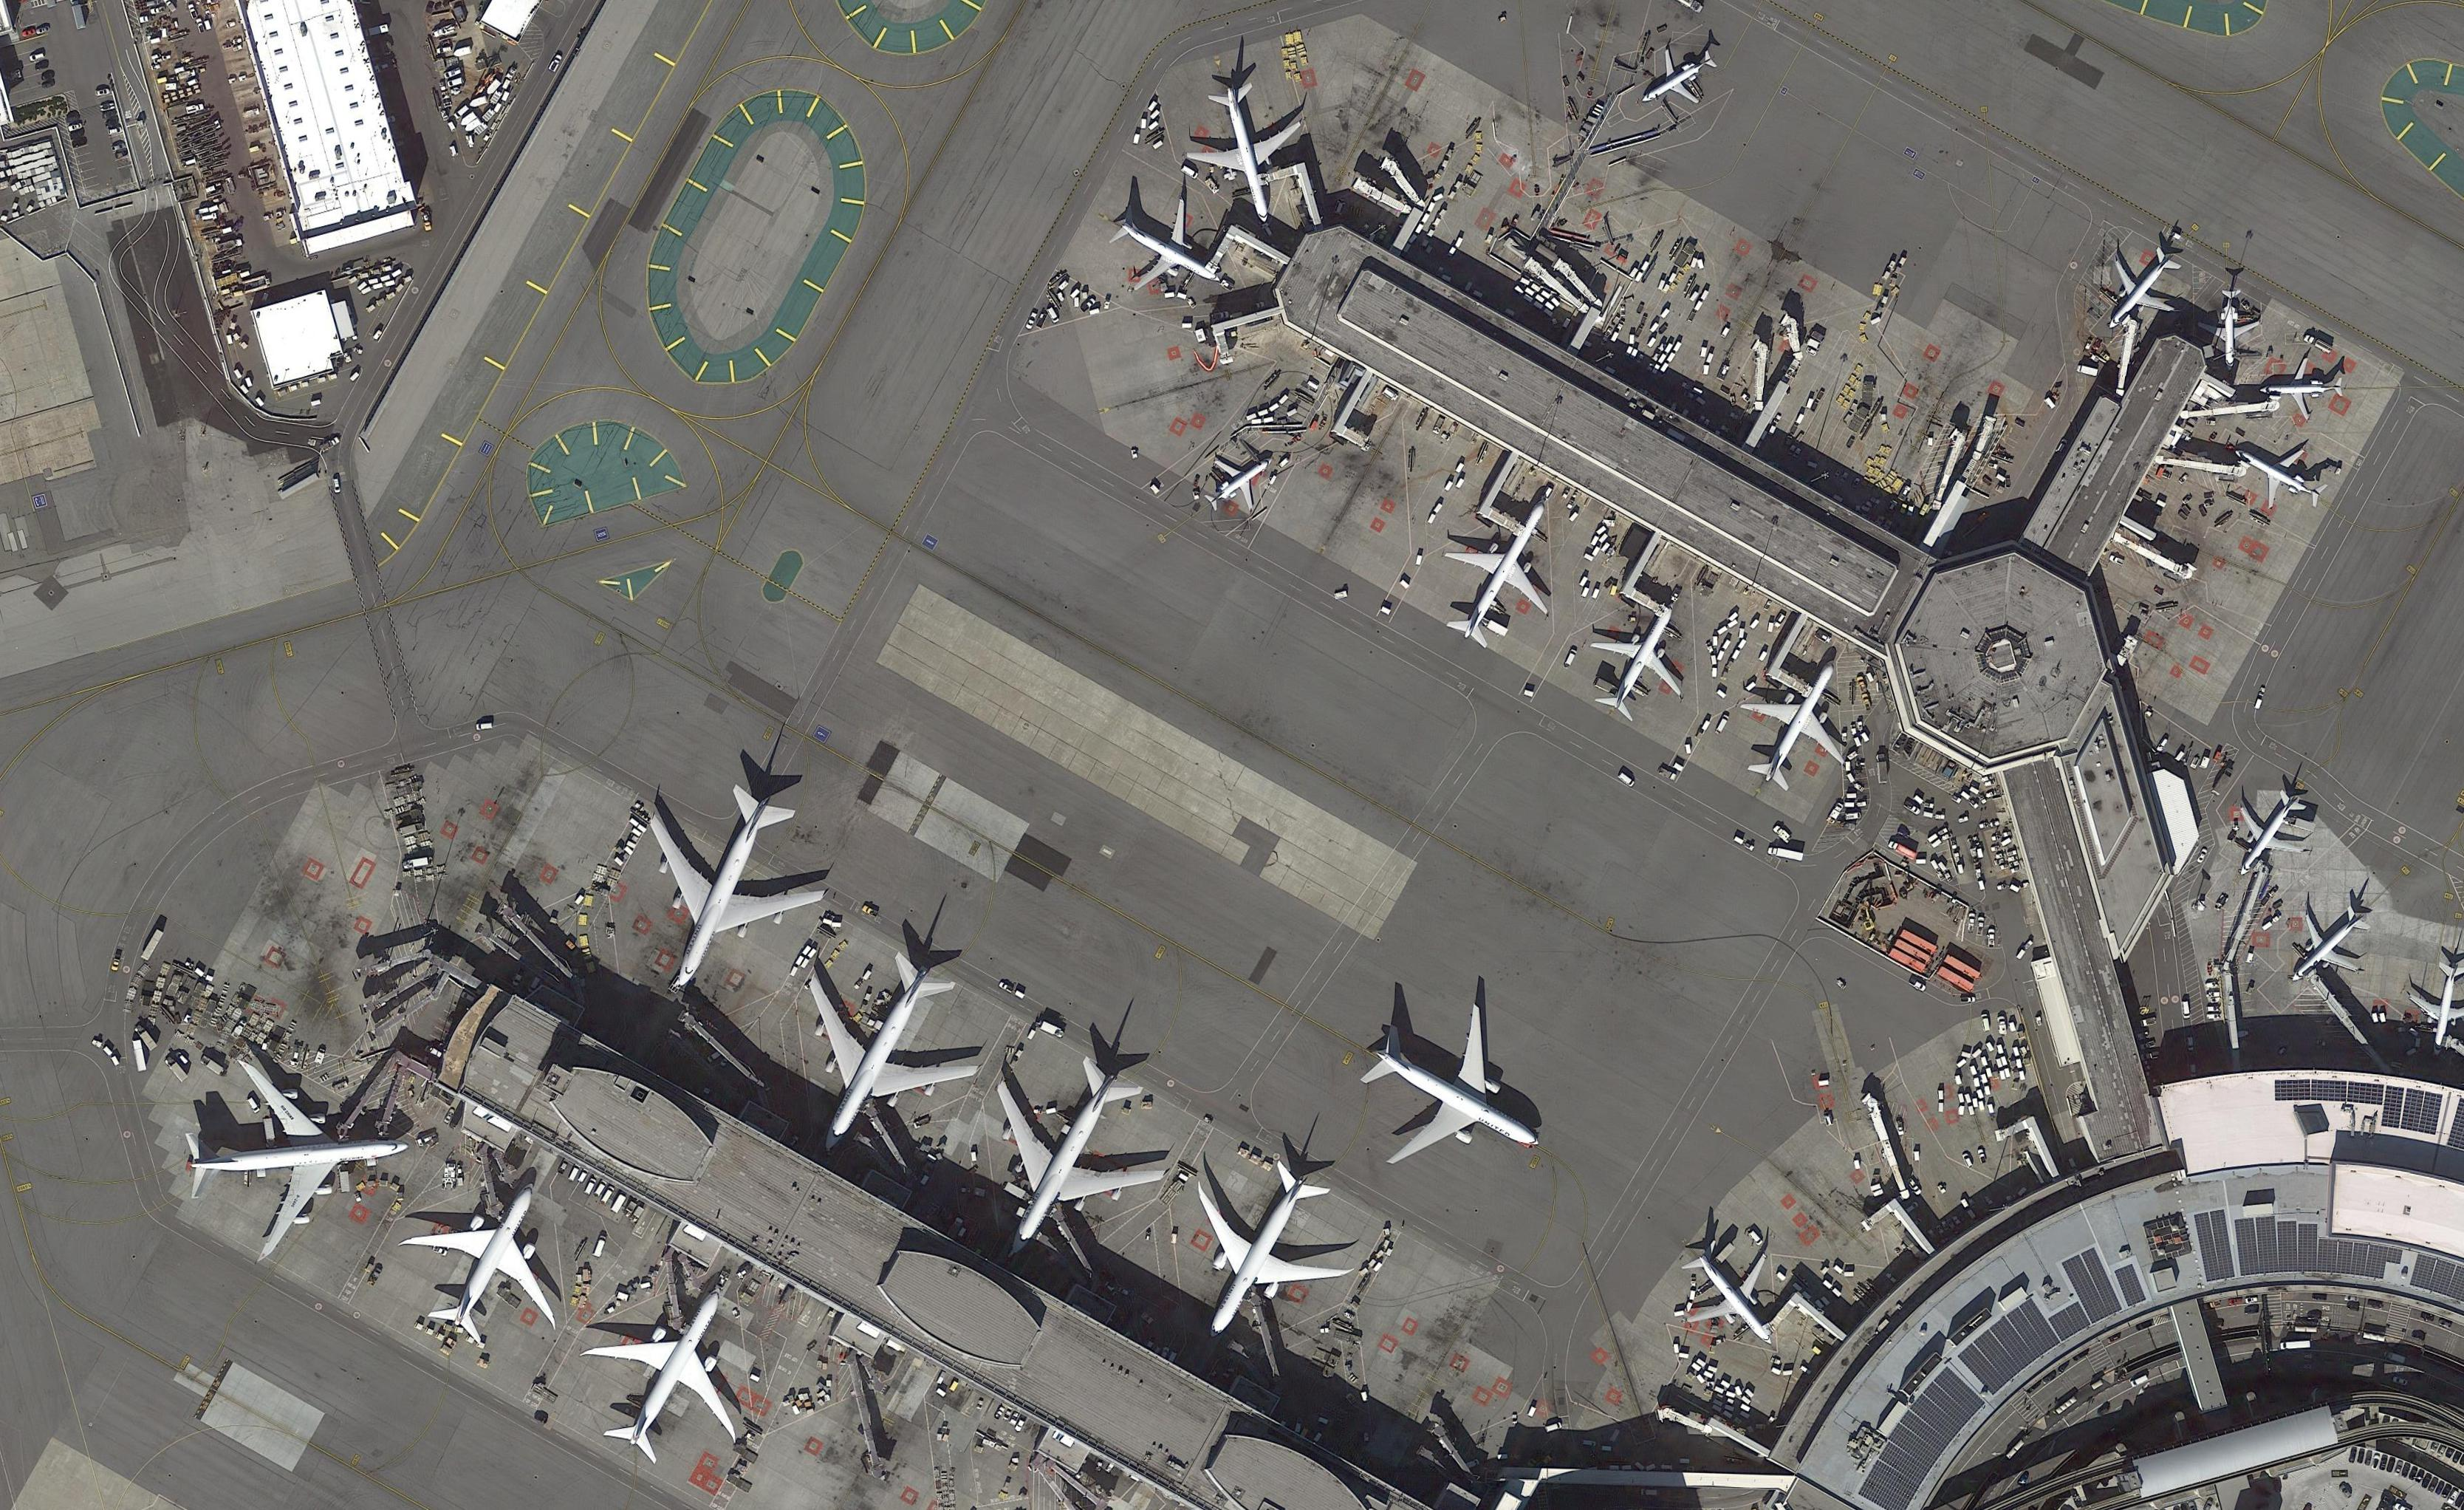plane: (926, 1017, 1200, 1306), (743, 913, 1012, 1202), (588, 751, 852, 1028), (1125, 1126, 1382, 1380), (542, 1242, 799, 1494), (1320, 970, 1580, 1214), (172, 1040, 419, 1265), (370, 1142, 611, 1369), (1406, 466, 1600, 672), (1709, 632, 1888, 811), (1167, 74, 1329, 238), (1654, 1218, 1813, 1378), (1088, 171, 1251, 319), (1563, 581, 1714, 737), (2265, 880, 2394, 1007), (2204, 771, 2332, 896), (2077, 227, 2202, 354), (2211, 417, 2343, 531), (1624, 32, 1732, 127), (1188, 433, 1287, 530), (2395, 947, 2464, 1063), (2193, 282, 2267, 375), (2262, 356, 2344, 421)
